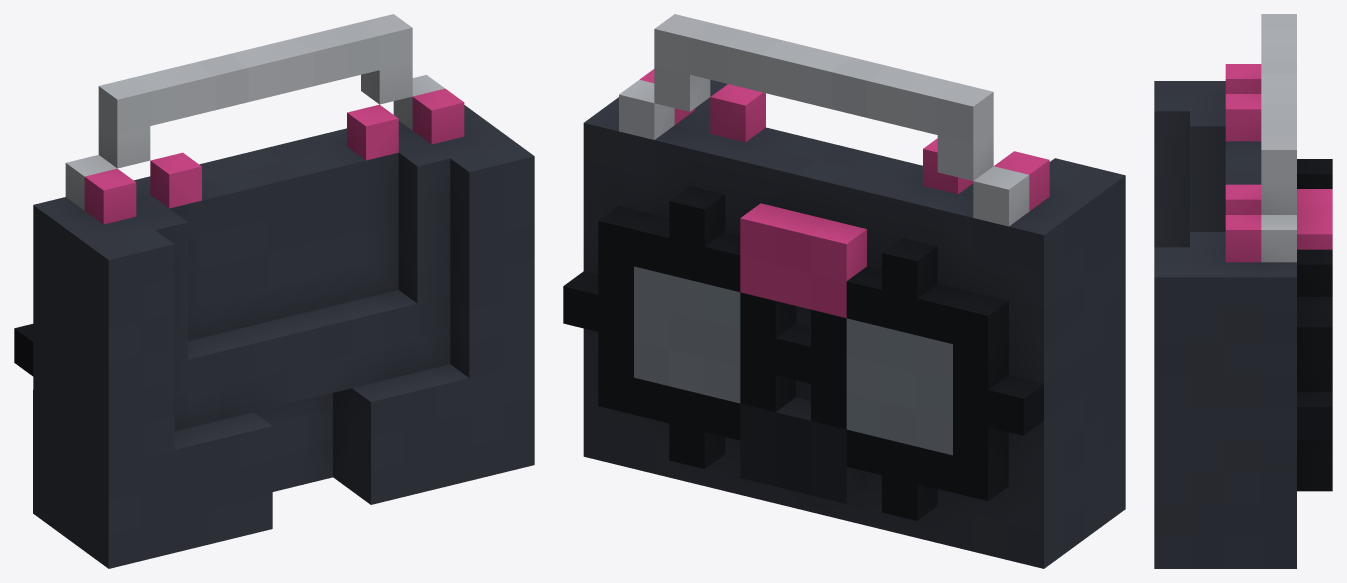
File: back_boombox.glb
3 views of the same model, side by side, from view 1: azimuth 30°, elevation 25°; view 2: azimuth 150°, elevation 25°; view 3: azimuth 270°, elevation 25° (orthographic). The views are drawn at different scales.
Visible parts, largest first — view 1: Back; view 2: Back; view 3: Back.
Part boxes in pixels (box(x1,y1,x2,y2)): Back: box(14, 14, 534, 568); Back: box(563, 14, 1125, 568); Back: box(1154, 14, 1332, 568).
Bounding box in the file's own units: 1.43 × 1.32 × 0.5498.
